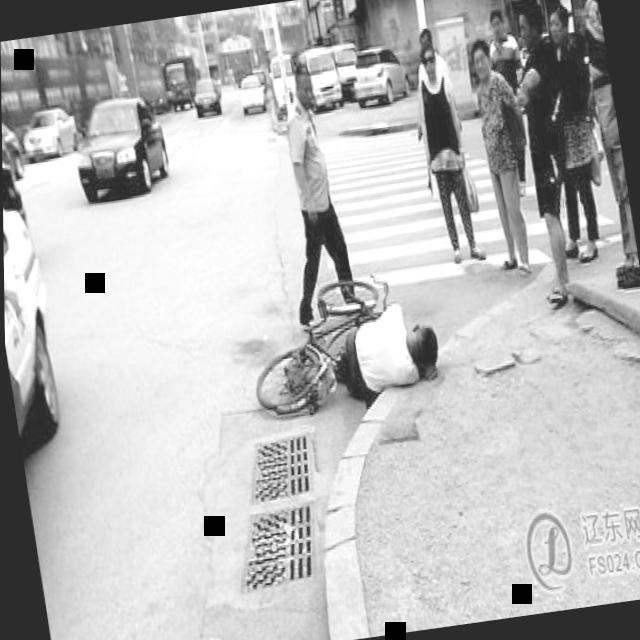Fall-Detected: (313, 281, 445, 416)
